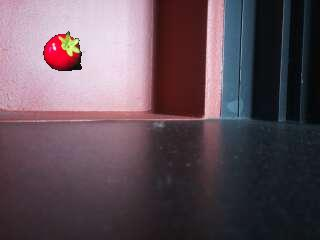Tomato: (42, 30, 83, 73)
